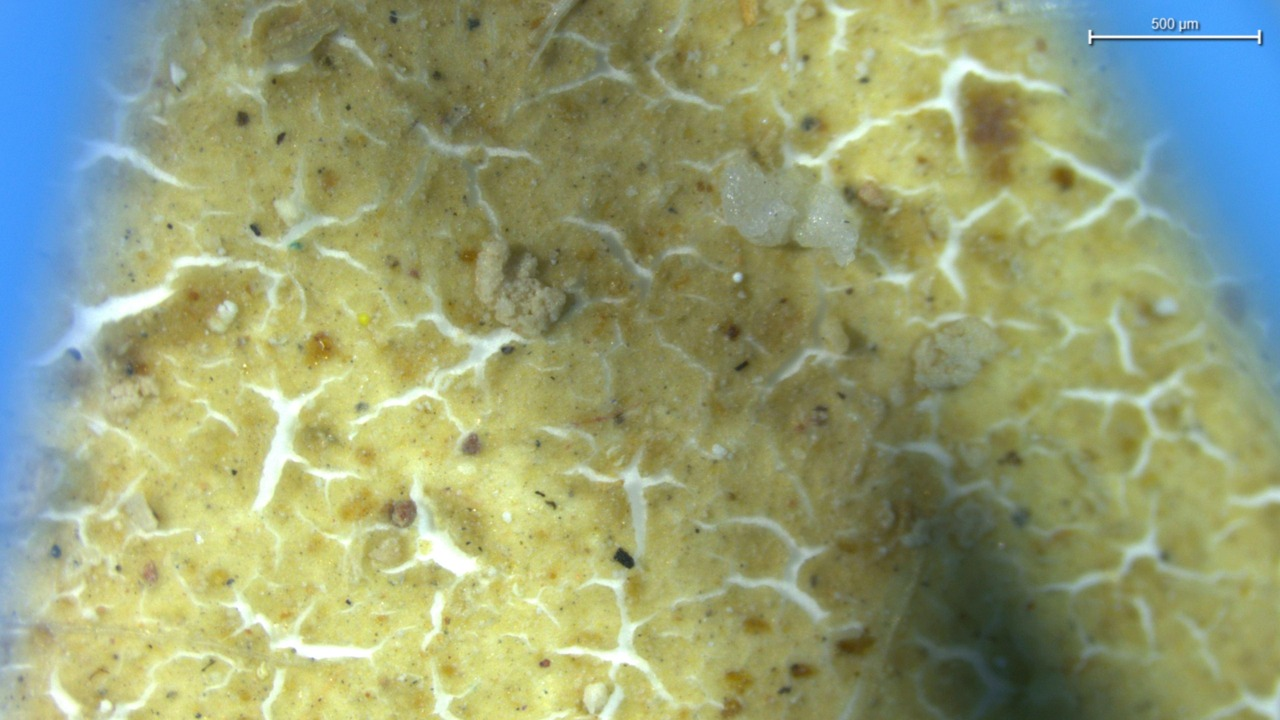microplastic_fragment: (719, 157, 860, 266), (476, 241, 575, 339)
